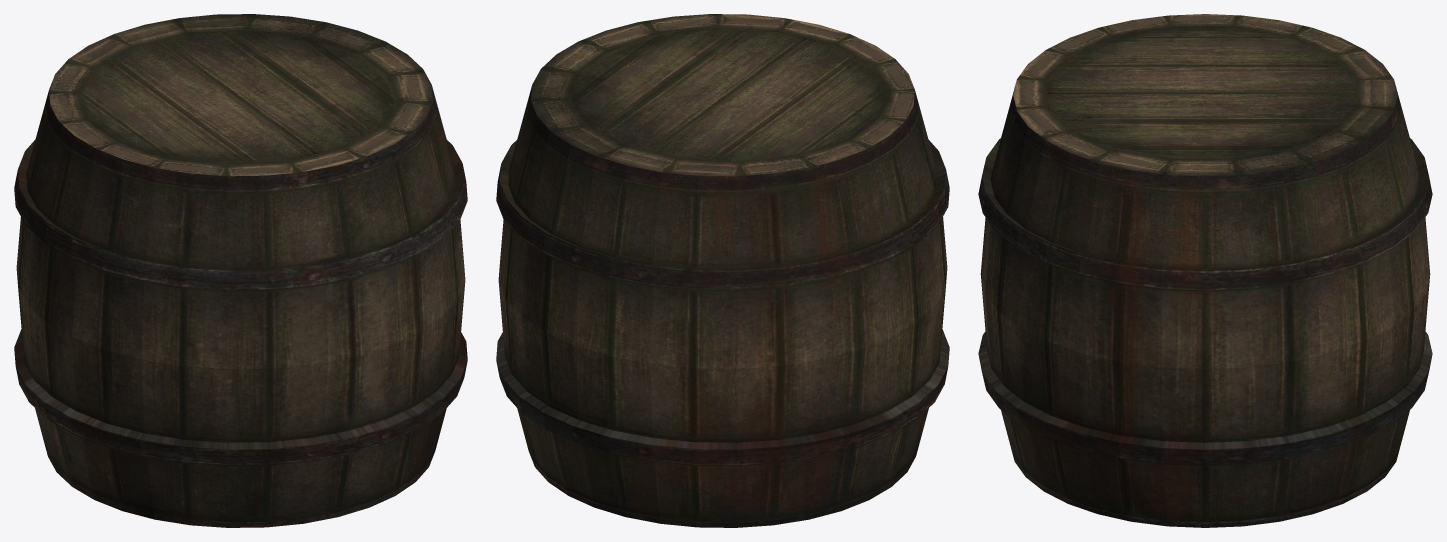
The model's file is barril.fbx.
3 views of the same model, side by side, from view 1: azimuth 30°, elevation 25°; view 2: azimuth 150°, elevation 25°; view 3: azimuth 270°, elevation 25° (orthographic).
Visible parts, largest first — view 1: Cylinder; view 2: Cylinder; view 3: Cylinder.
Part boxes in pixels (x1,y1,x2,y2): Cylinder: (14,14,467,527); Cylinder: (496,14,949,527); Cylinder: (978,14,1432,527).
Bounding box in the file's own units: 264 × 225 × 264.
1 material, 1 textured.
